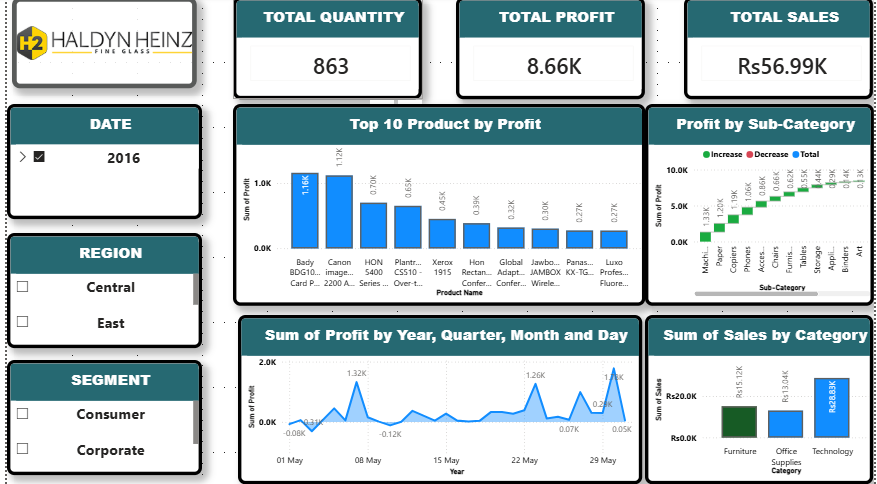

This screenshot's page, from the dashboard's own definition file:
{"tool":"powerbi","page":{"name":"Profit Anaylsis","canvas":[1280,720],"ordinal":2},"visuals":[{"type":"image","box":[6.9,0,272.6,135.4],"z":0},{"type":"listSlicer","title":"DATE","fields":{"Values":["Orders.Order Date.Variation.Date Hierarchy.Year","Orders.Order Date.Variation.Date Hierarchy.Quarter","Orders.Order Date.Variation.Date Hierarchy.Month","Orders.Order Date.Variation.Date Hierarchy.Day"]},"box":[0,157.7,288,169.7],"z":1000},{"type":"cardVisual","title":"TOTAL QUANTITY","fields":{"Data":["Sum(Orders.Quantity)"]},"box":[334.3,0,279.4,150.9],"z":2000},{"type":"cardVisual","title":"TOTAL PROFIT","fields":{"Data":["Sum(Orders.Profit)"]},"box":[663.4,0,279.4,150.9],"z":3000},{"type":"cardVisual","title":"TOTAL SALES","fields":{"Data":["Sum(Orders.Sales)"]},"box":[1000.6,0,279.4,150.9],"z":4000},{"type":"listSlicer","title":"REGION","fields":{"Values":["Orders.Region"]},"box":[0,348,288,169.7],"z":5000},{"type":"listSlicer","title":"SEGMENT","fields":{"Values":["Orders.Segment"]},"box":[0,536.6,288,169.7],"z":6000},{"type":"columnChart","title":"Top 10 Product by Profit","fields":{"Category":["Orders.Product Name"],"Y":["Sum(Orders.Profit)"]},"box":[334.3,157.7,608.6,298.3],"z":7000},{"type":"waterfallChart","title":"Profit by Sub-Category","fields":{"Category":["Orders.Sub-Category"],"Y":["Sum(Orders.Profit)"]},"box":[942.9,157.7,337.7,298.3],"z":8000},{"type":"areaChart","fields":{"Category":["Orders.Order Date.Variation.Date Hierarchy.Year","Orders.Order Date.Variation.Date Hierarchy.Quarter","Orders.Order Date.Variation.Date Hierarchy.Month","Orders.Order Date.Variation.Date Hierarchy.Day"],"Y":["Sum(Orders.Profit)"]},"box":[341.1,469.7,596.6,250.3],"z":9000},{"type":"columnChart","fields":{"Category":["Orders.Category","Orders.Sub-Category","Orders.Product Name"],"Y":["Sum(Orders.Sales)"]},"box":[943,470,337,250],"z":10000}]}

Visuals, with their boxes in screenshot pixels (x1, y1, x2, y2), scaled from the page's 1280x720 canvas onto the 877x484 screenshot:
image: <region>5, 0, 192, 91</region>
"DATE" listSlicer: <region>0, 106, 197, 220</region>
"TOTAL QUANTITY" cardVisual: <region>229, 0, 420, 101</region>
"TOTAL PROFIT" cardVisual: <region>455, 0, 646, 101</region>
"TOTAL SALES" cardVisual: <region>686, 0, 876, 101</region>
"REGION" listSlicer: <region>0, 234, 197, 348</region>
"SEGMENT" listSlicer: <region>0, 361, 197, 475</region>
"Top 10 Product by Profit" columnChart: <region>229, 106, 646, 307</region>
"Profit by Sub-Category" waterfallChart: <region>646, 106, 876, 307</region>
areaChart - Orders.Order Date.Variation.Date Hierarchy.Year x Orders.Order Date.Variation.Date Hierarchy.Quarter: <region>234, 316, 642, 483</region>
columnChart - Orders.Category x Orders.Sub-Category: <region>646, 316, 876, 483</region>
